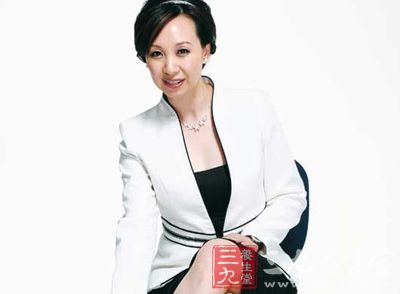normal: (111, 1, 315, 294)
